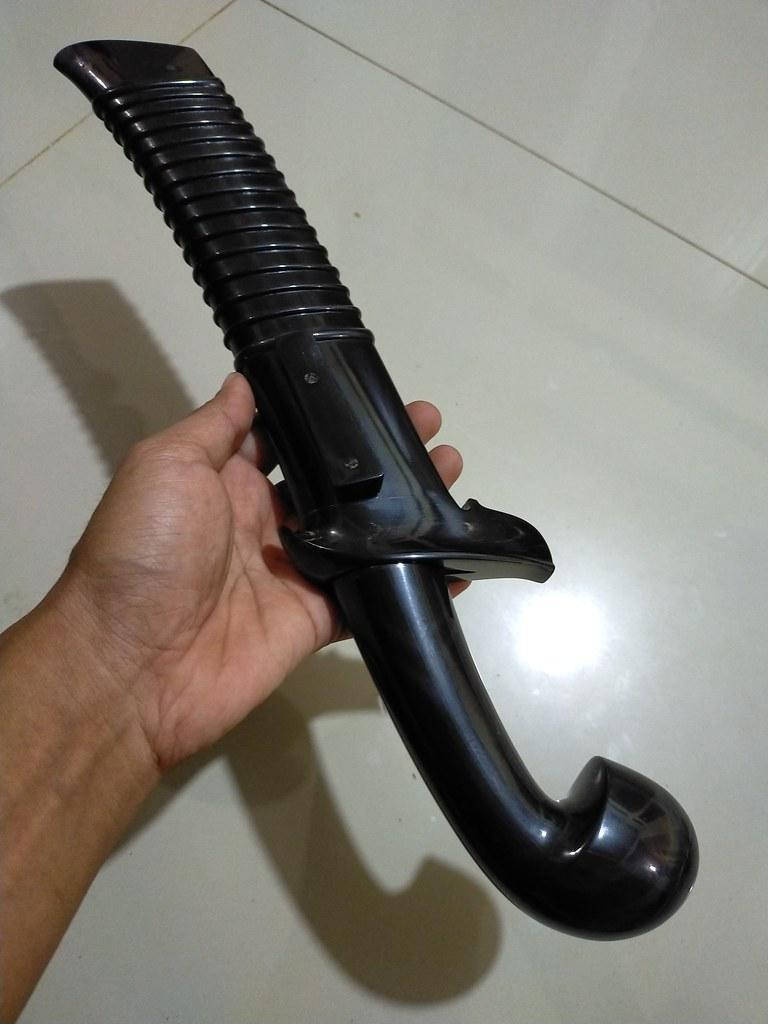facao: (77, 32, 700, 928)
